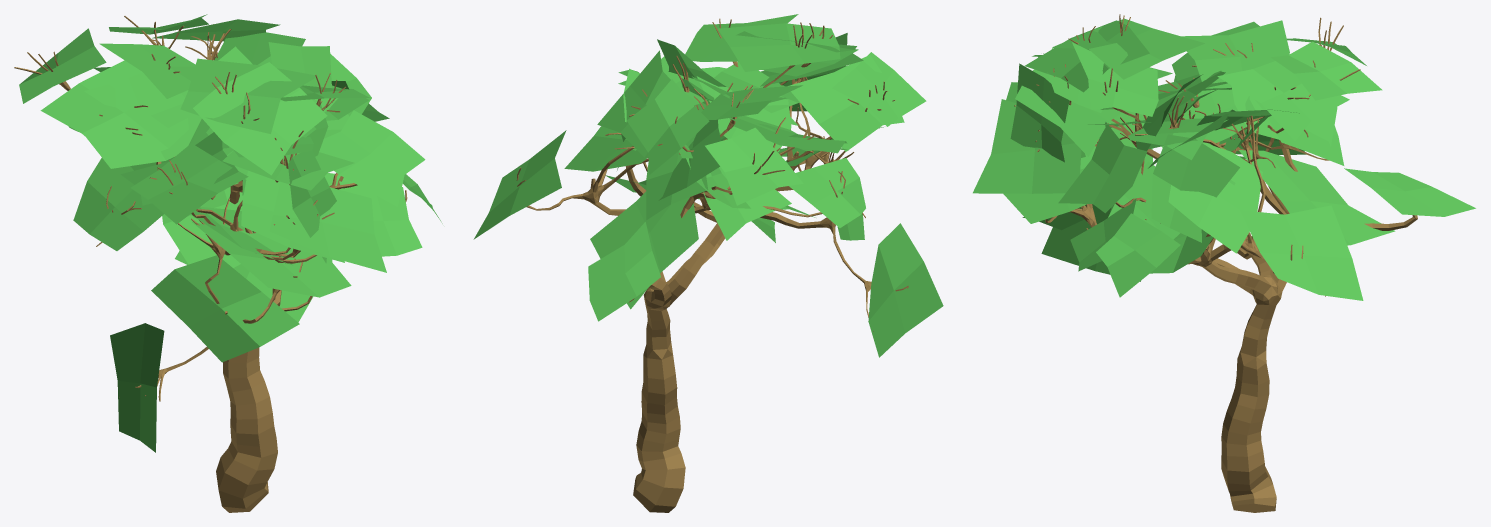
Rendered from tree8.fbx.
3 views of the same model, side by side, from view 1: azimuth 30°, elevation 25°; view 2: azimuth 150°, elevation 25°; view 3: azimuth 270°, elevation 25° (orthographic). The views are drawn at different scales.
Parts seen in each view (by area): view 1: tree08_mesh; view 2: tree08_mesh; view 3: tree08_mesh.
Part boxes in pixels (x1=…): tree08_mesh: x1=14, y1=14, x2=442, y2=512; tree08_mesh: x1=473, y1=14, x2=943, y2=512; tree08_mesh: x1=973, y1=14, x2=1475, y2=512.
Size of the model in its own units: 134 by 181 by 178.
